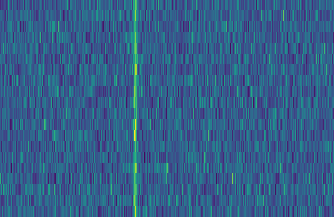signal: (129, 0, 138, 217)
